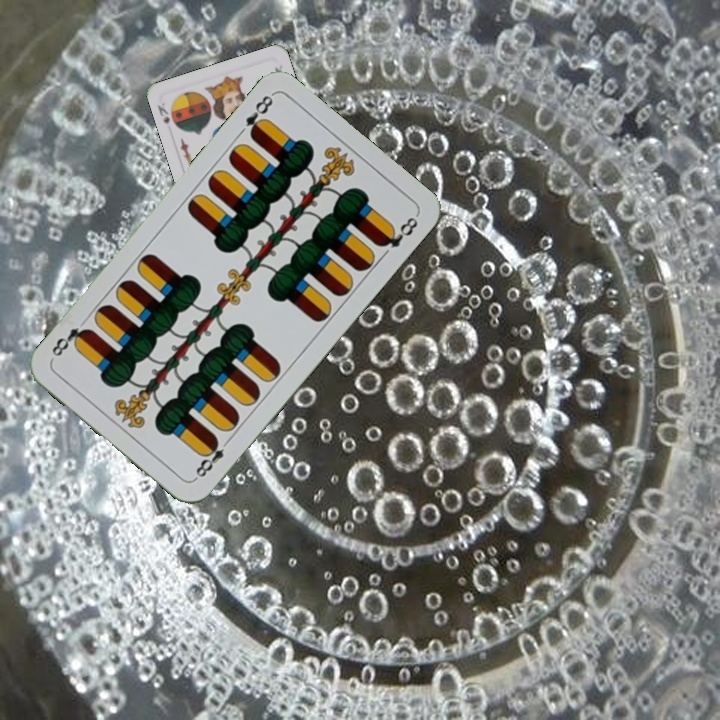E8: (191, 433, 234, 483), (241, 89, 276, 142)
SK: (153, 98, 172, 126)
